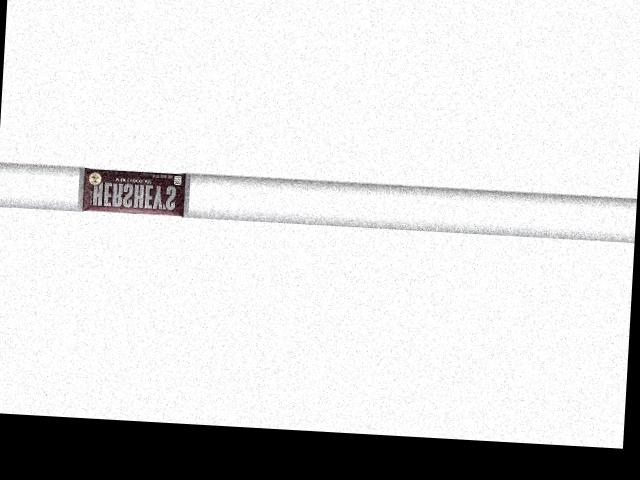chocolate: (79, 162, 191, 215)
